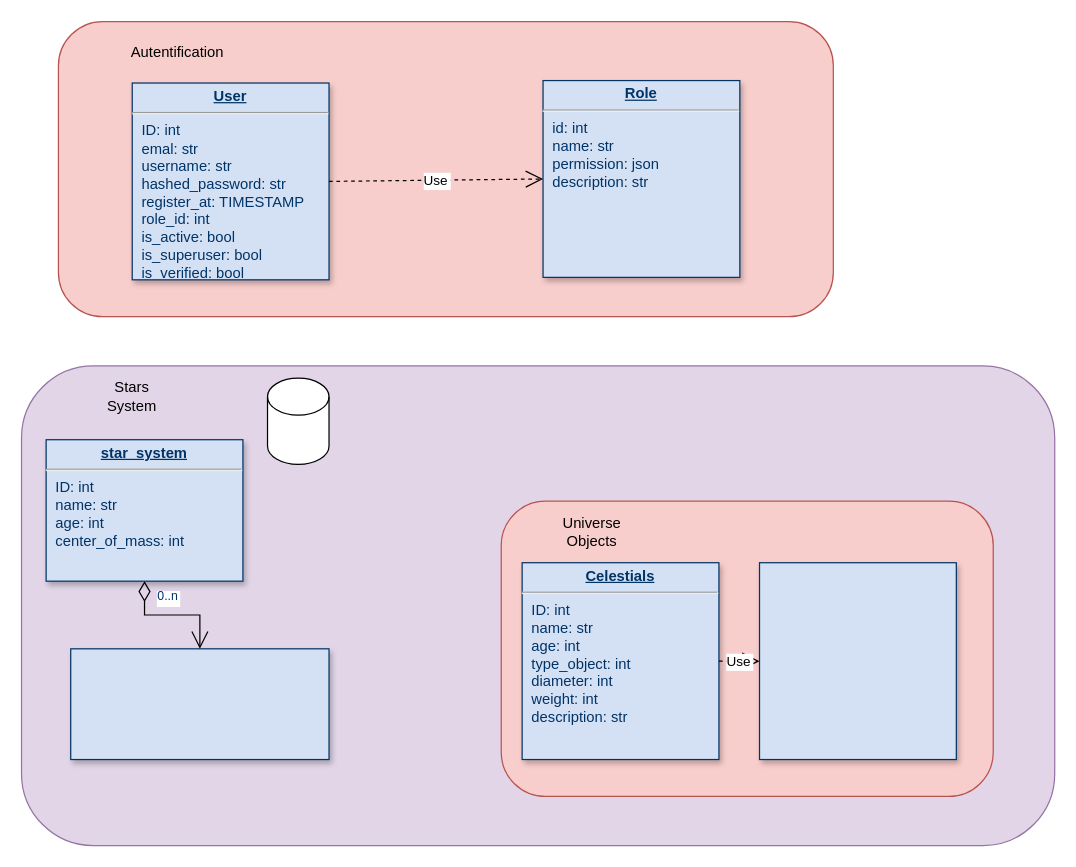
The diagram is 1076 pixels wide and 867 high, and some of its shapes have lost their labels. The centre of each missing label's shape, as x and y in pixels:
permitted_center_of_mass_type id: int name: str description: str: (200,705)
type_object id: int name: str description: str: (858,662)
